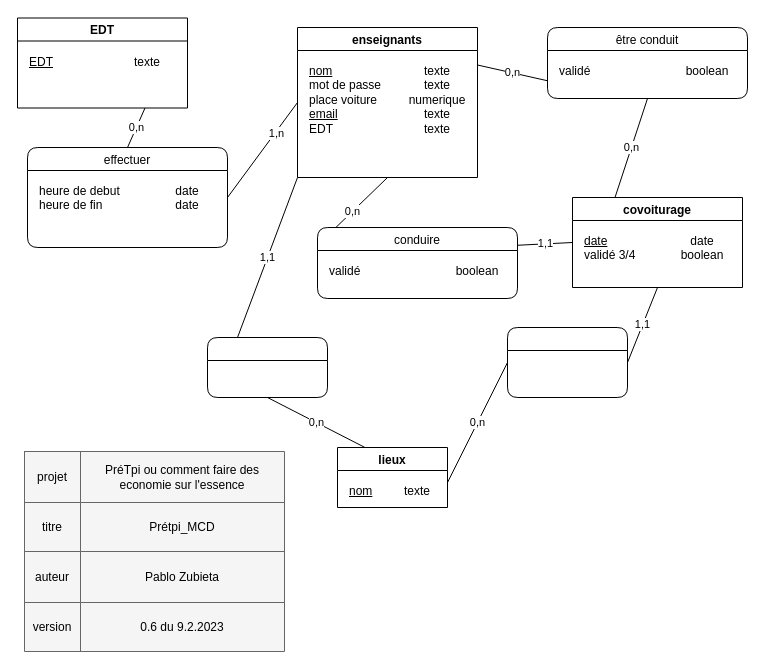
This 765x669 diagram has some shape labels left out. Here are the shapes that lost their labels. From the top down, the centre of each, then its label:
pixel 267 367: habiter
pixel 567 362: partir
